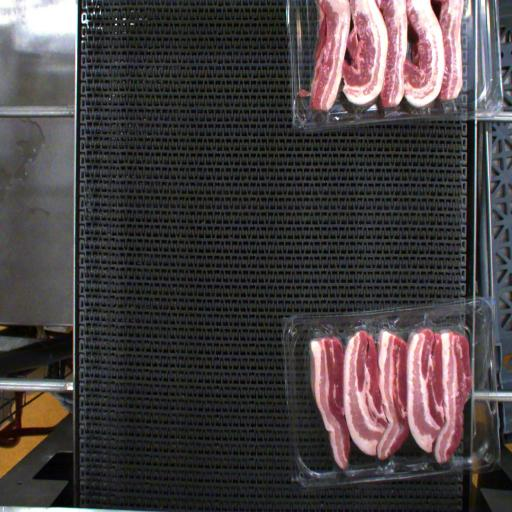unsealed: (298, 313, 490, 416)
